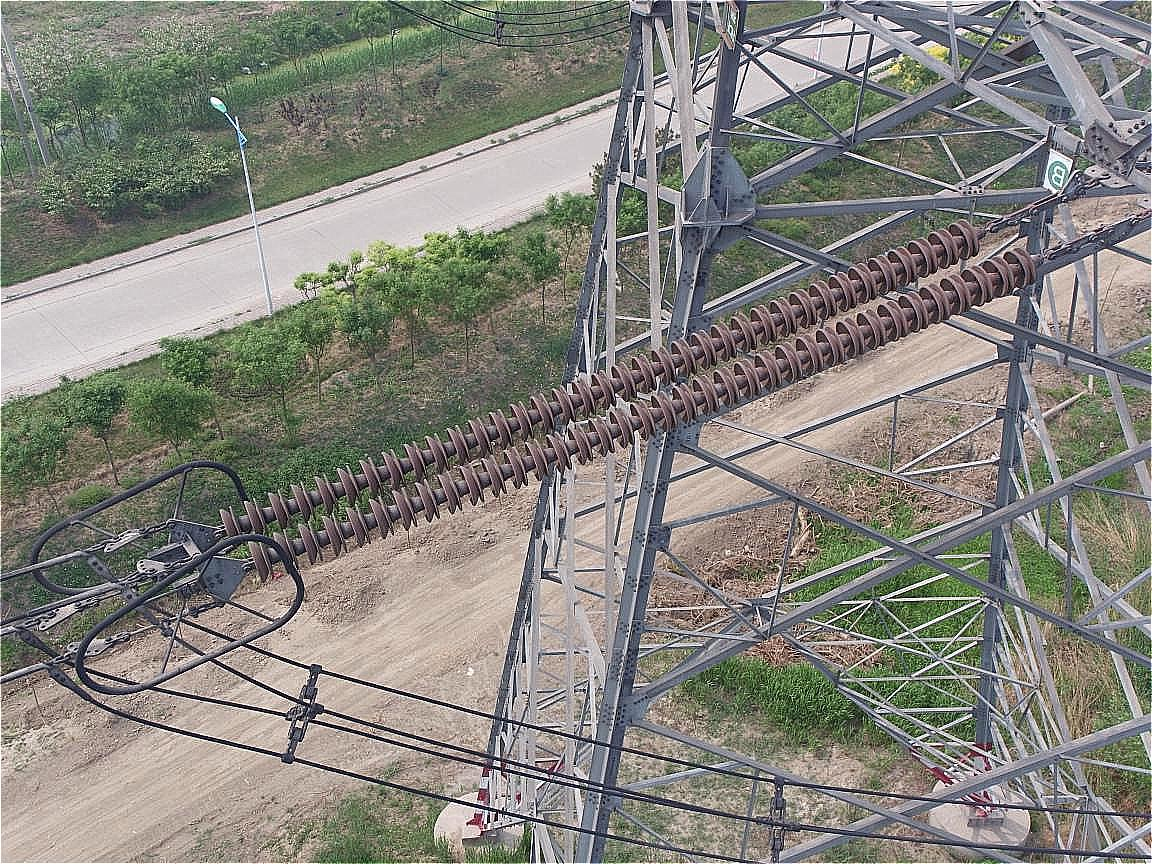insultor2: (201, 214, 1077, 580)
